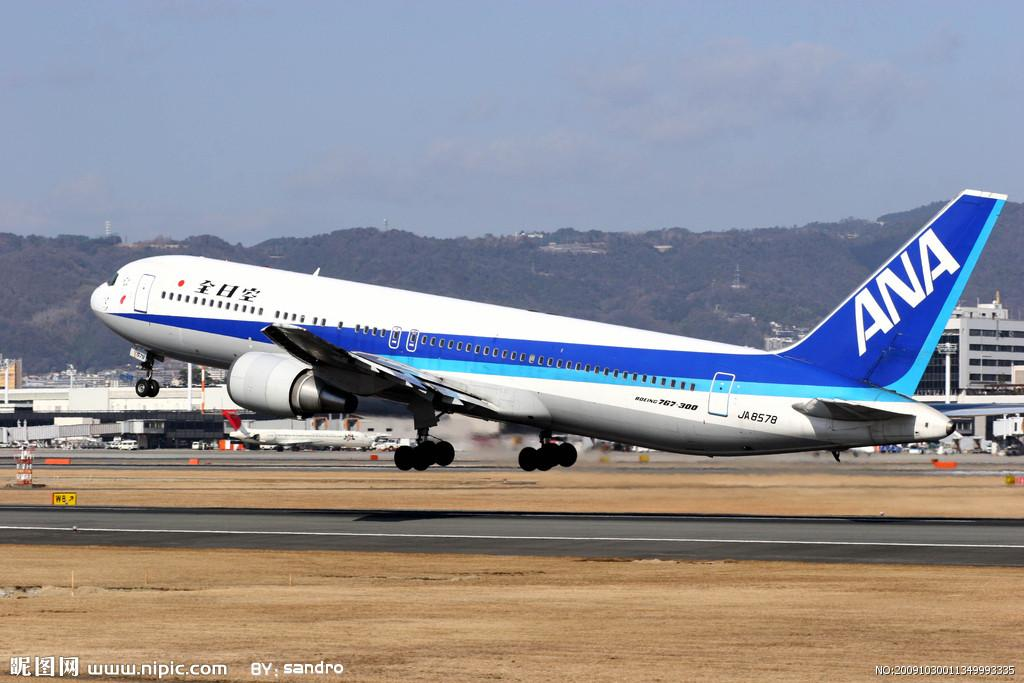airplane: (74, 191, 1021, 476)
